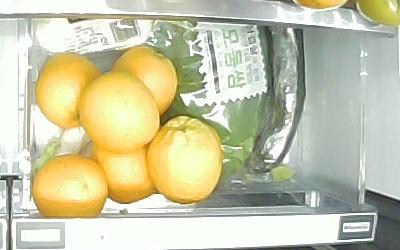orange: (147, 114, 222, 204), (79, 71, 158, 154), (36, 52, 102, 128), (31, 155, 106, 218), (111, 46, 176, 114), (91, 141, 156, 204)
